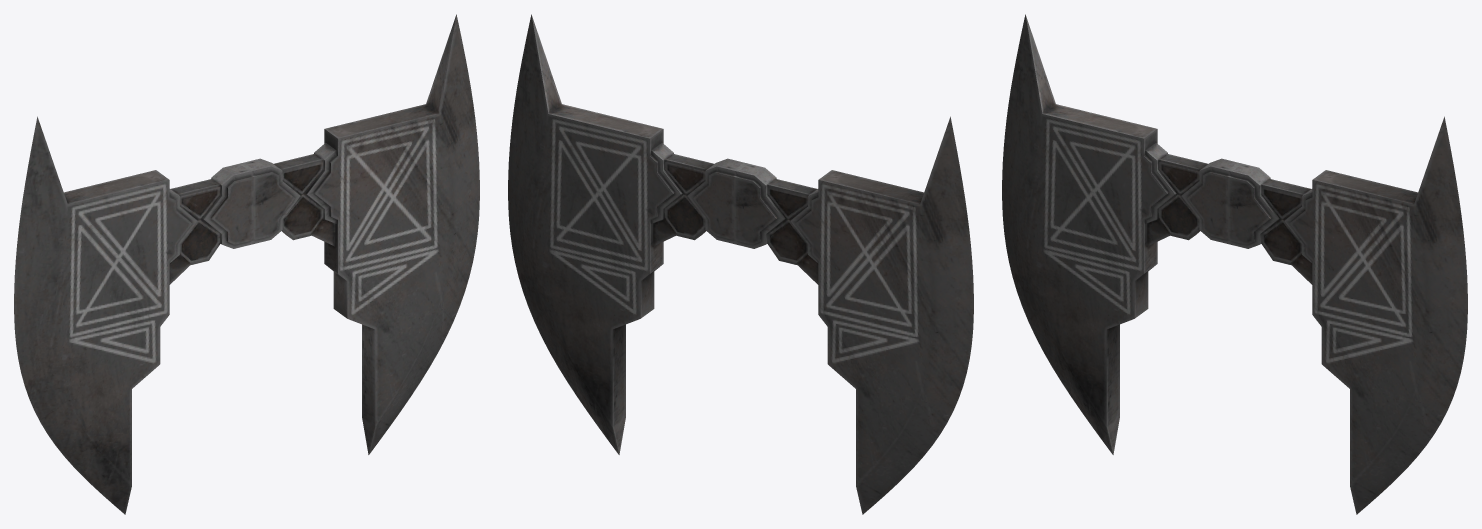
The model's file is sm_dwarf_erebor_axe_blade_2h_a.fbx.
The picture shows the model from 3 angles, left to right: view 1: azimuth 30°, elevation 25°; view 2: azimuth 150°, elevation 25°; view 3: azimuth 330°, elevation 25°; orthographic projection.
Visible parts, largest first — view 1: sm_dwarf_erebor_axe_blade_2h_a; view 2: sm_dwarf_erebor_axe_blade_2h_a; view 3: sm_dwarf_erebor_axe_blade_2h_a.
Boxes of the visible parts, x1=… form: sm_dwarf_erebor_axe_blade_2h_a: x1=14, y1=14, x2=479, y2=514; sm_dwarf_erebor_axe_blade_2h_a: x1=508, y1=14, x2=973, y2=514; sm_dwarf_erebor_axe_blade_2h_a: x1=1002, y1=14, x2=1467, y2=514.
Bounding box in the file's own units: 0.4981 × 0.025 × 0.4292.
1 material, 1 textured.
